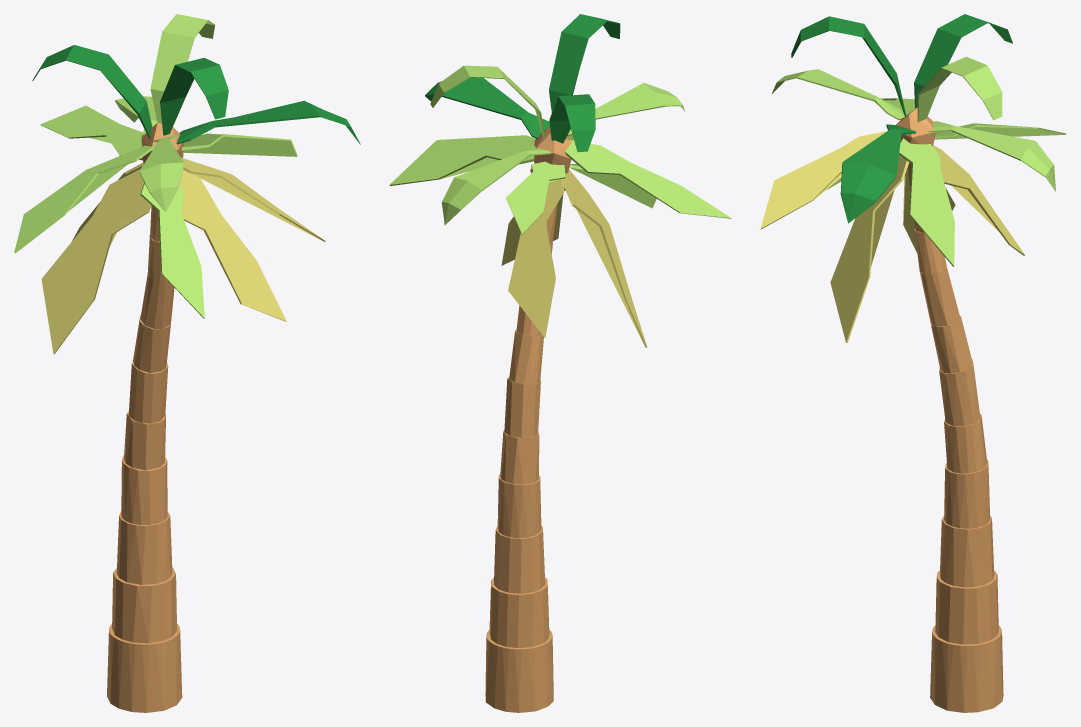
Rendered from palm1.fbx.
3 views of the same model, side by side, from view 1: azimuth 30°, elevation 25°; view 2: azimuth 150°, elevation 25°; view 3: azimuth 270°, elevation 25° (orthographic). The views are drawn at different scales.
Parts seen in each view (by area): view 1: branch, leaf_light.003, leaf_light.006, leaf_light.002, leaf_light.001, leaf, leaf.002, leaf_light.004, leaf.001, leaf_light, leaf.003, leaf.005 (+1 smaller); view 2: branch, leaf_light.005, leaf_light, leaf_light.001, leaf_light.003, leaf, leaf.003, leaf.004, leaf.001, leaf_light.004, leaf.005, leaf.002 (+2 smaller); view 3: branch, leaf_light.006, leaf_light, leaf.003, leaf_light.007, leaf.002, leaf.001, leaf.004, leaf_light.005, leaf, leaf.005, leaf_light.004 (+1 smaller).
Boxes of the visible parts, x1,y1,x2,y2 form: branch: (107, 122, 184, 712); leaf_light.003: (41, 169, 151, 354); leaf_light.006: (179, 170, 286, 321); leaf_light.002: (140, 183, 204, 318); leaf_light.001: (14, 144, 156, 253); leaf: (160, 57, 228, 135); leaf.002: (150, 14, 214, 123); leaf_light.004: (40, 105, 142, 160); leaf.001: (32, 45, 152, 138); leaf_light: (181, 133, 297, 156); leaf.003: (176, 100, 360, 144); leaf.005: (139, 135, 184, 212); branch: (485, 126, 571, 712); leaf_light.005: (508, 178, 564, 337); leaf_light: (389, 135, 535, 185); leaf_light.001: (565, 140, 731, 218); leaf_light.003: (562, 169, 647, 347); leaf: (549, 14, 620, 112); leaf.003: (425, 77, 549, 138); leaf.004: (442, 146, 551, 225); leaf.001: (549, 94, 595, 152); leaf_light.004: (506, 161, 565, 234); leaf.005: (567, 83, 684, 135); leaf.002: (430, 65, 545, 139); branch: (896, 107, 1003, 712); leaf_light.006: (830, 155, 909, 342); leaf_light: (899, 138, 954, 266); leaf.003: (840, 124, 916, 223); leaf_light.007: (760, 131, 886, 229); leaf.002: (917, 56, 1002, 122); leaf.001: (914, 14, 1012, 108); leaf.004: (928, 121, 1055, 191); leaf_light.005: (933, 145, 1024, 255); leaf: (791, 16, 906, 117); leaf.005: (772, 69, 904, 120); leaf_light.004: (934, 123, 1065, 139).
Size of the model in its own units: 239 by 465 by 193.
